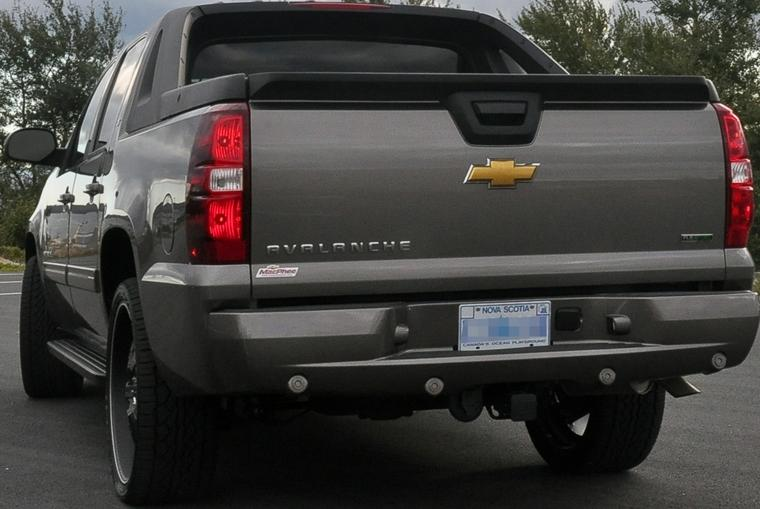back_view: (165, 82, 760, 416)
backlight: (182, 100, 260, 271)
side_glass: (61, 32, 150, 176)
